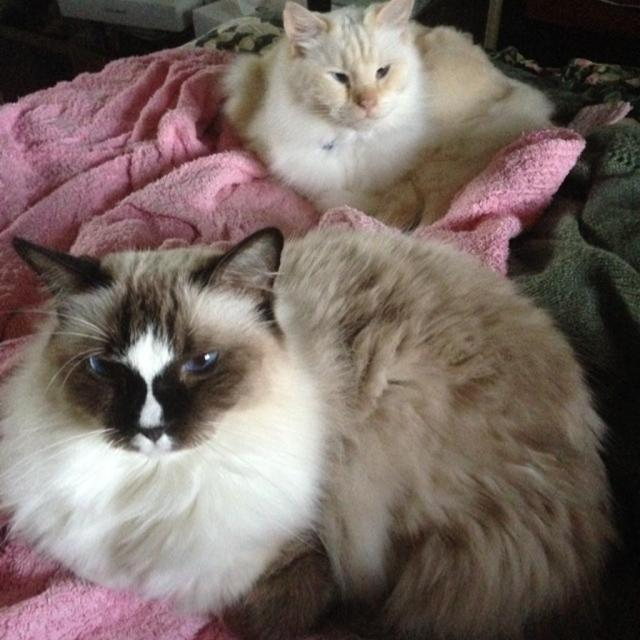Cat: (0, 225, 632, 639), (212, 0, 555, 225)
